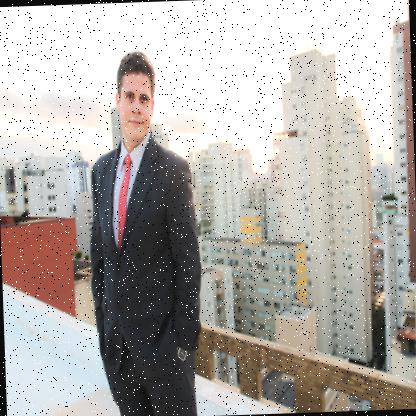sem_capacete: (111, 47, 159, 146)
sem_colete_refletivo: (80, 132, 211, 386)
